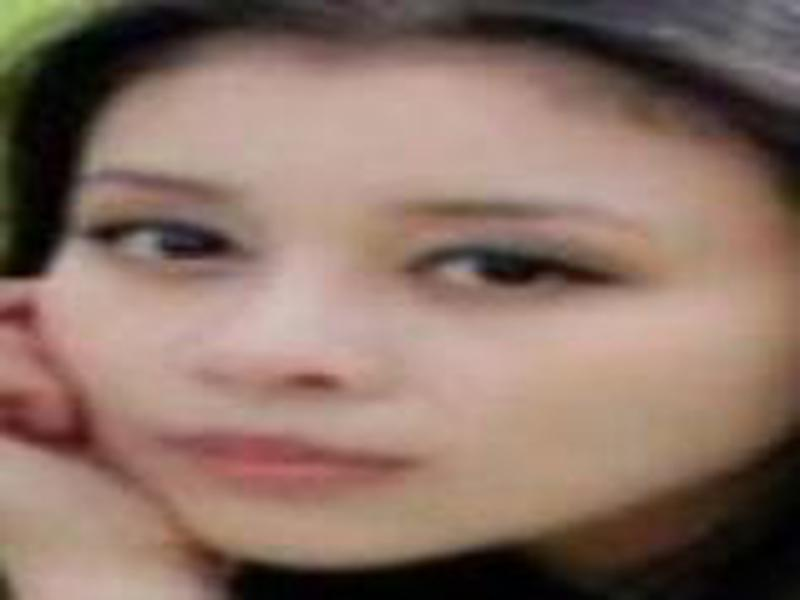without_mask: (42, 59, 746, 570)
